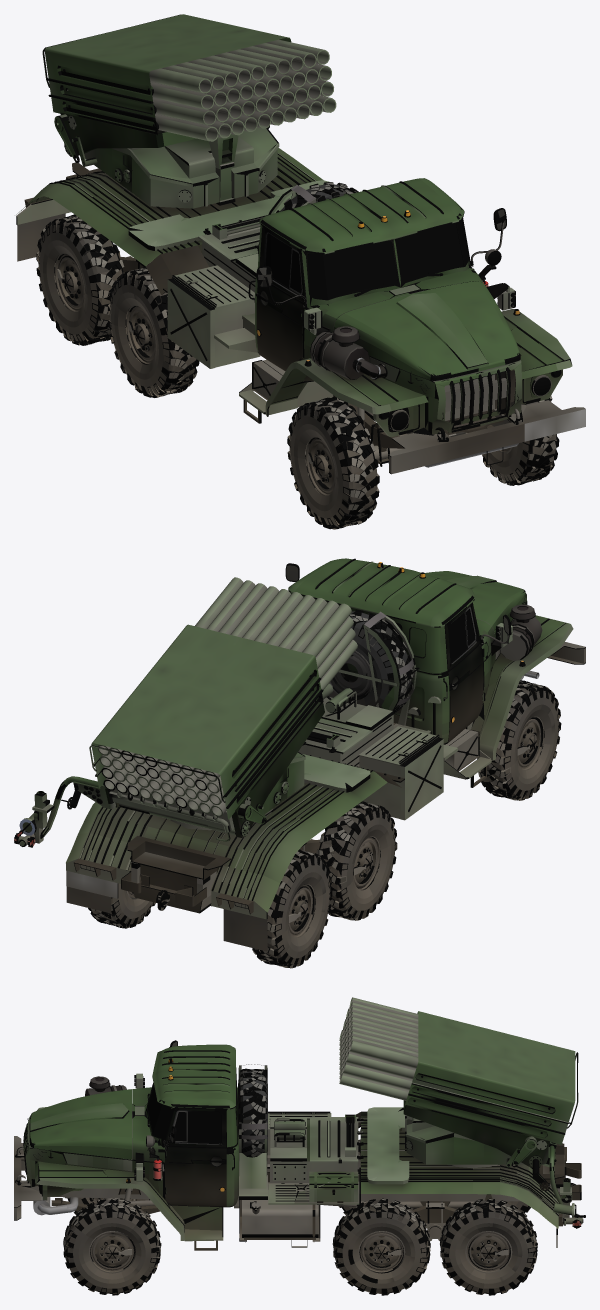
The picture shows the model from 3 angles, top to bottom: view 1: azimuth 30°, elevation 25°; view 2: azimuth 150°, elevation 25°; view 3: azimuth 270°, elevation 25°; orthographic projection. The views are drawn at different scales.
Parts seen in each view (by area): view 1: Body; view 2: Body; view 3: Body.
Part boxes in pixels (bbox=[...]): Body: bbox=[16, 14, 585, 529]; Body: bbox=[14, 558, 585, 968]; Body: bbox=[14, 997, 585, 1295].
Size of the model in its own units: 3.06 by 3.39 by 7.35.
1 material, 1 textured.
